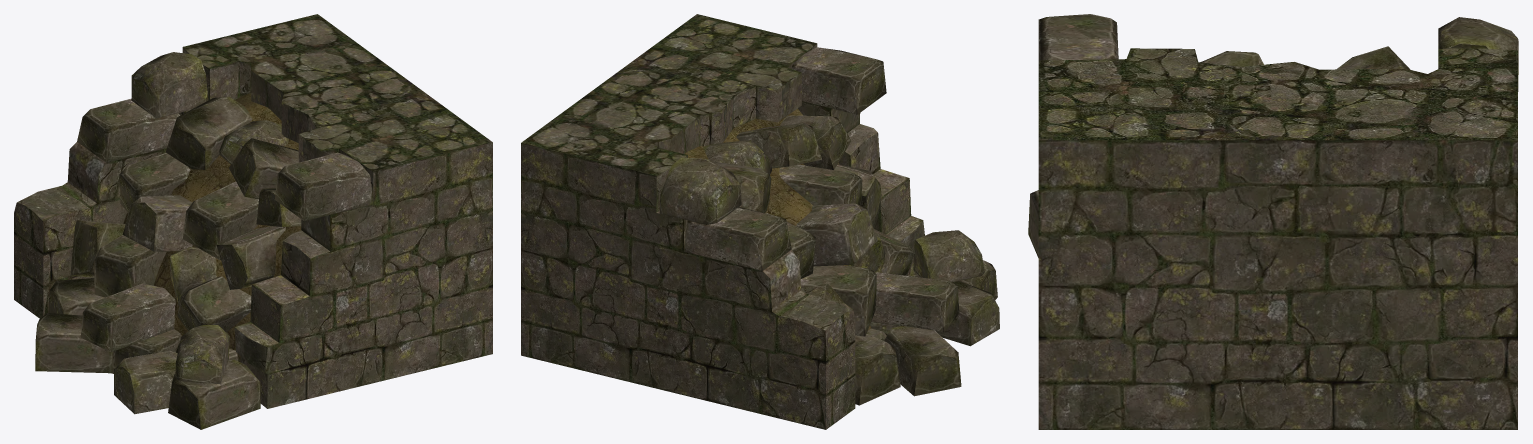
File: Base_Broken_01-transformed.glb
3 renders of one model, left to right at view 1: azimuth 30°, elevation 25°; view 2: azimuth 150°, elevation 25°; view 3: azimuth 270°, elevation 25°, orthographic. The views are drawn at different scales.
Parts seen in each view (by area): view 1: default; view 2: default; view 3: default.
Boxes of the visible parts, x1,y1,x2,y2 form: default: (14,14,492,429); default: (521,14,999,429); default: (1028,14,1518,429).
Bounding box in the file's own units: 7.13 × 4.08 × 6.14.
Materials: 3 (3 with a texture image).
